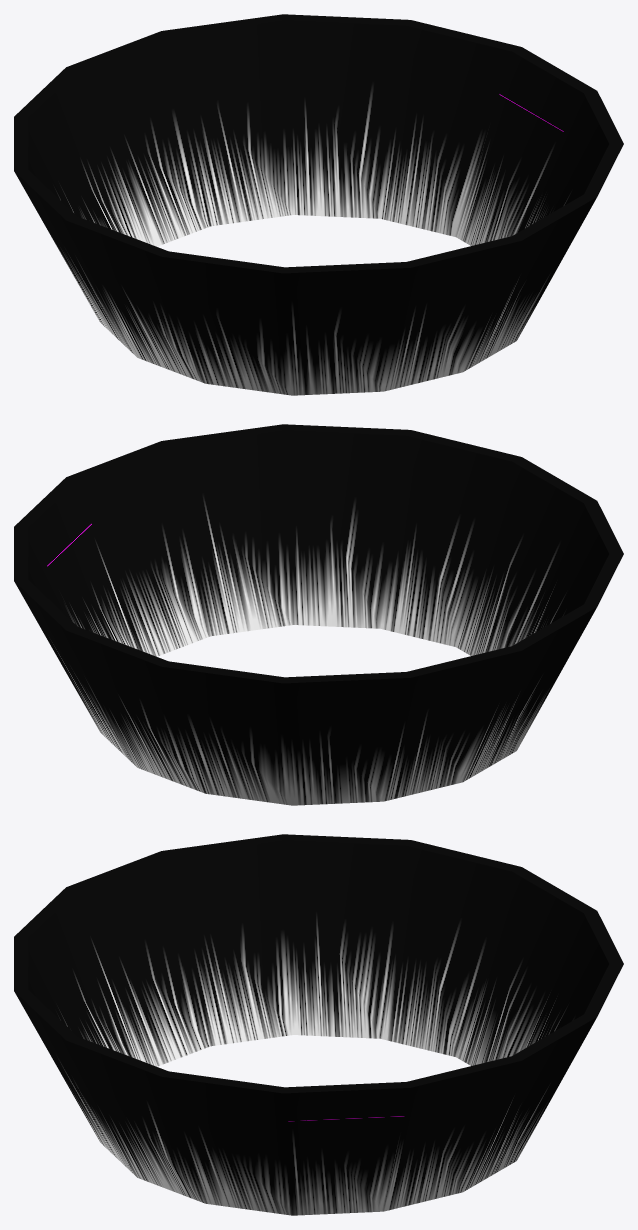
3 views of the same model, one above another, from view 1: azimuth 30°, elevation 25°; view 2: azimuth 150°, elevation 25°; view 3: azimuth 270°, elevation 25° (orthographic).
Parts seen in each view (by area): view 1: Tube001; view 2: Tube001; view 3: Tube001.
Part boxes in pixels (<box>): Tube001: <box>14,14,623,395</box>; Tube001: <box>14,424,623,805</box>; Tube001: <box>14,834,623,1215</box>.
Bounding box in the file's own units: 41.77 × 11.97 × 41.54.
Materials: 1 (1 with a texture image).
